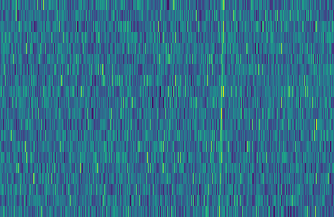signal: (215, 0, 229, 217)
